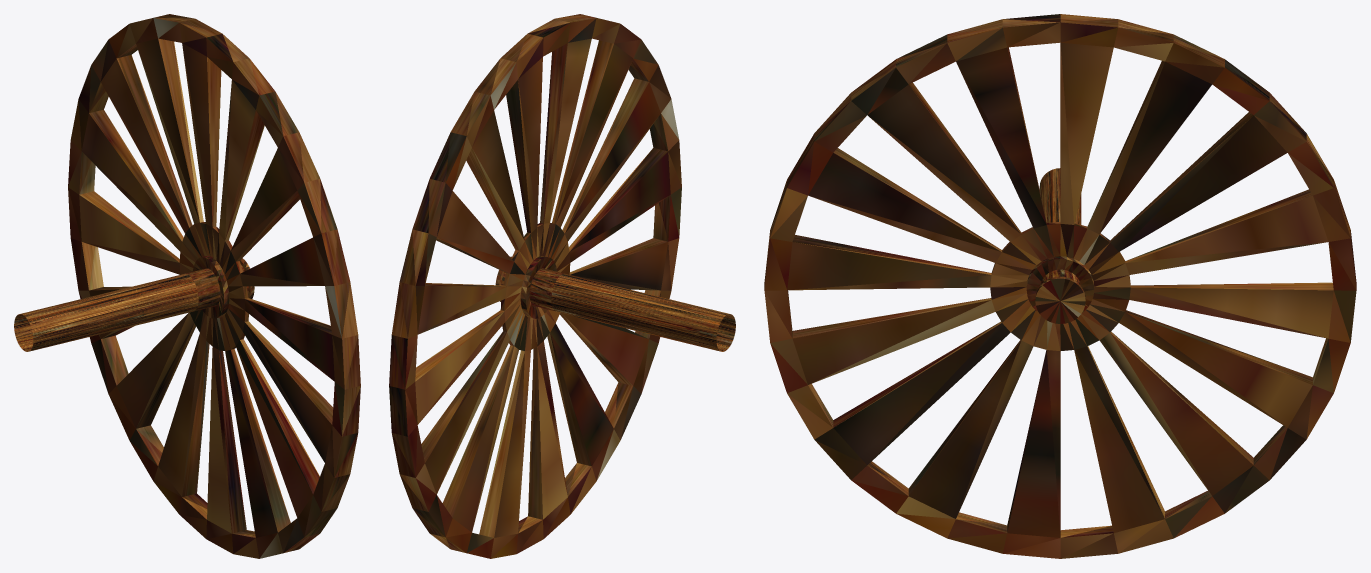
Rendered from wheel.obj.
The picture shows the model from 3 angles, left to right: view 1: azimuth 30°, elevation 25°; view 2: azimuth 150°, elevation 25°; view 3: azimuth 270°, elevation 25°; orthographic projection. The views are drawn at different scales.
Parts seen in each view (by area): view 1: Cylinder; view 2: Cylinder; view 3: Cylinder.
Boxes of the visible parts, x1,y1,x2,y2 form: Cylinder: [14, 14, 360, 558]; Cylinder: [389, 14, 735, 558]; Cylinder: [764, 14, 1356, 558].
Size of the model in its own units: 2 by 4.37 by 4.37.
